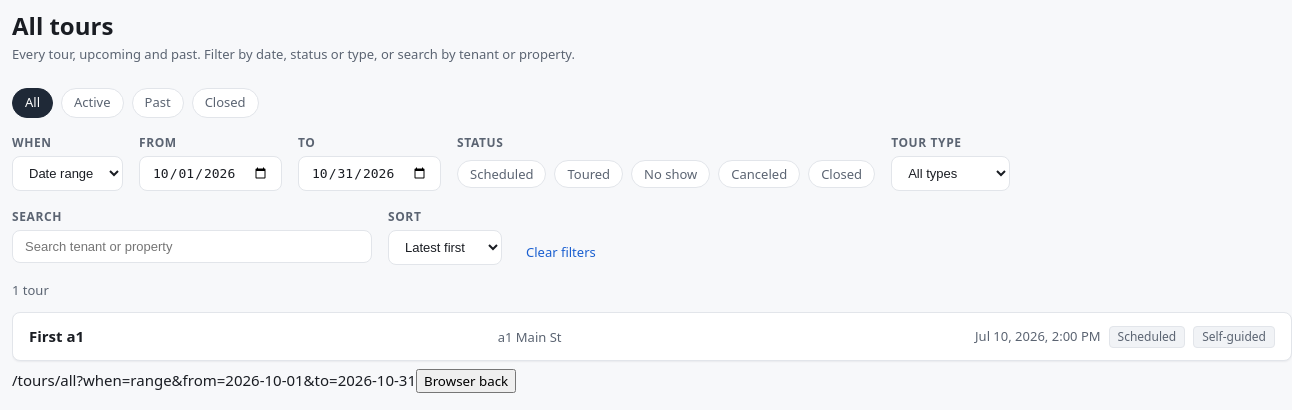
Test: AllToursView - the filter bar (spec 4.3) › From after To: the list area keeps the message until it is fixed - after the count line, outside it - and it stays under the inputs (spec 4.3, SC-4)
Type "2026-11-05" into the date field labelled "From".
click(210, 173); type("2026-11-05")  # box x1=139 y1=156 x2=282 y2=191
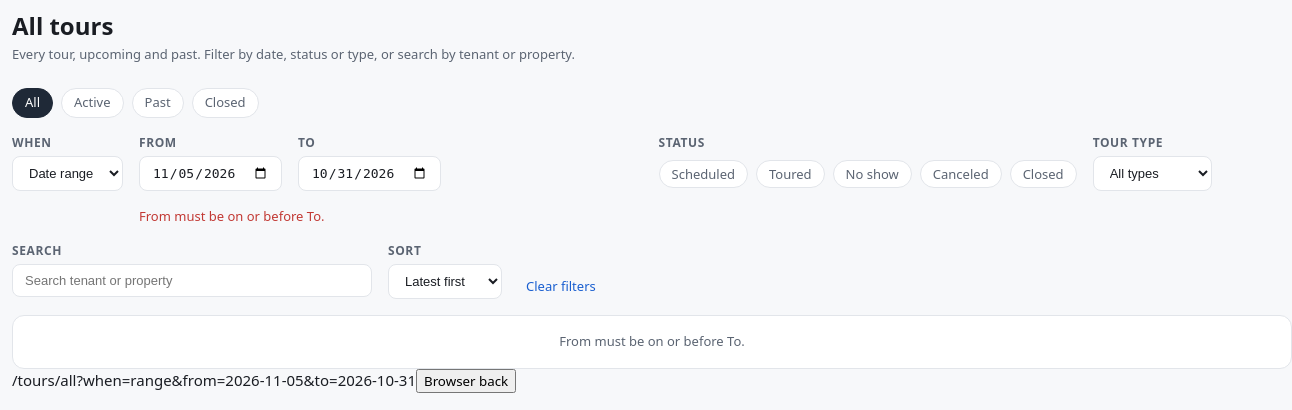
Expected: the text "From must be on or before To." is shown 2 times, x1=139 y1=207 x2=324 y2=225; x1=559 y1=332 x2=745 y2=350
Type "2026-10-05" into the date field labelled "From".
click(210, 173); type("2026-10-05")  # box x1=139 y1=156 x2=282 y2=191
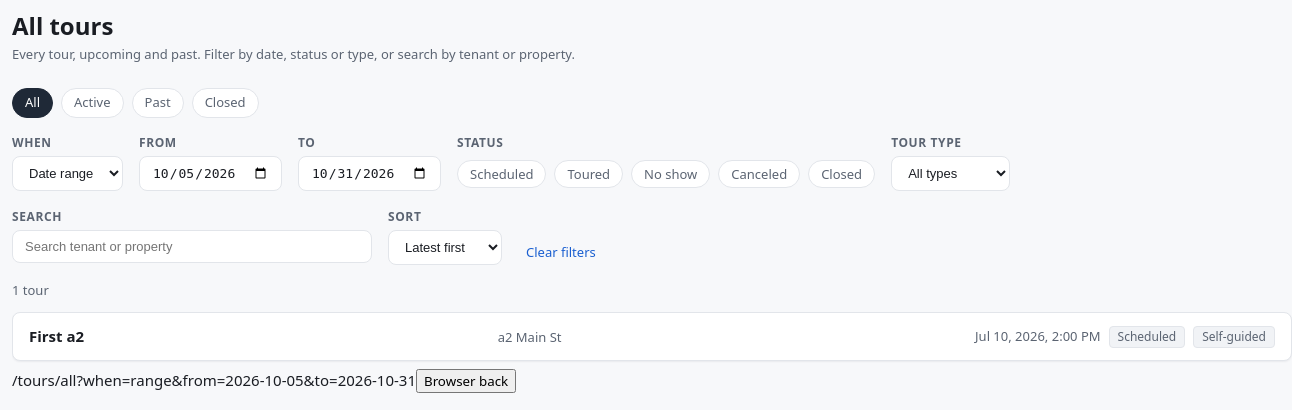
Expected: the text "From must be on or before To." is gone
